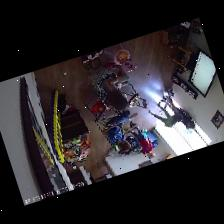person: (102, 109, 136, 150), (101, 65, 127, 110), (161, 99, 194, 128), (129, 125, 153, 158), (148, 102, 181, 126)
